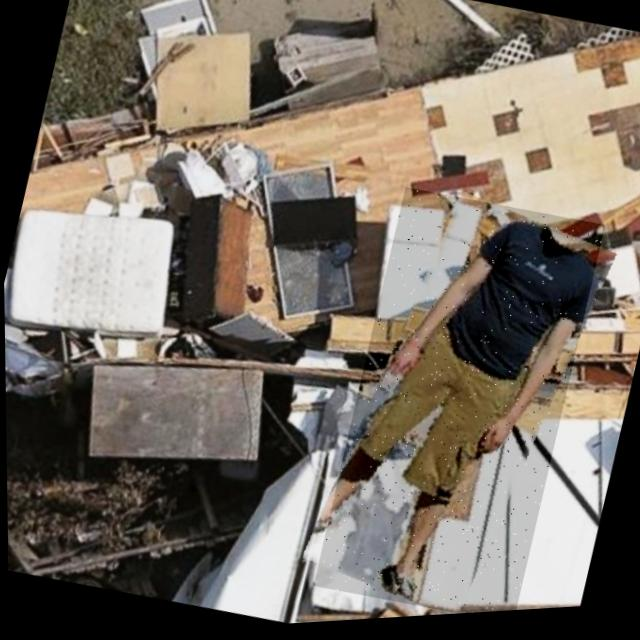Person in Rubble: (306, 182, 608, 626)
